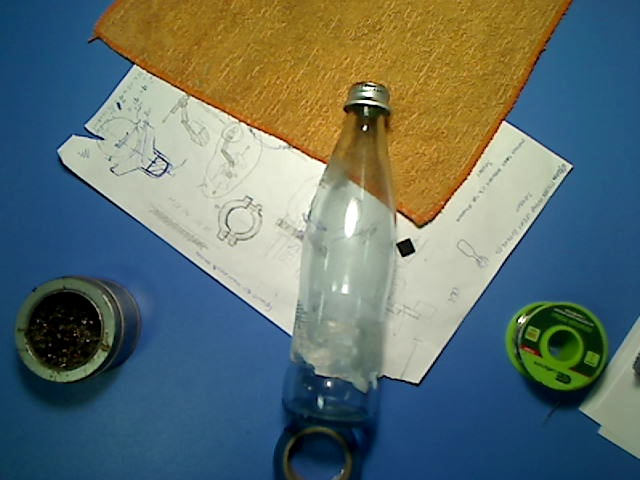bottle: (278, 78, 398, 429)
